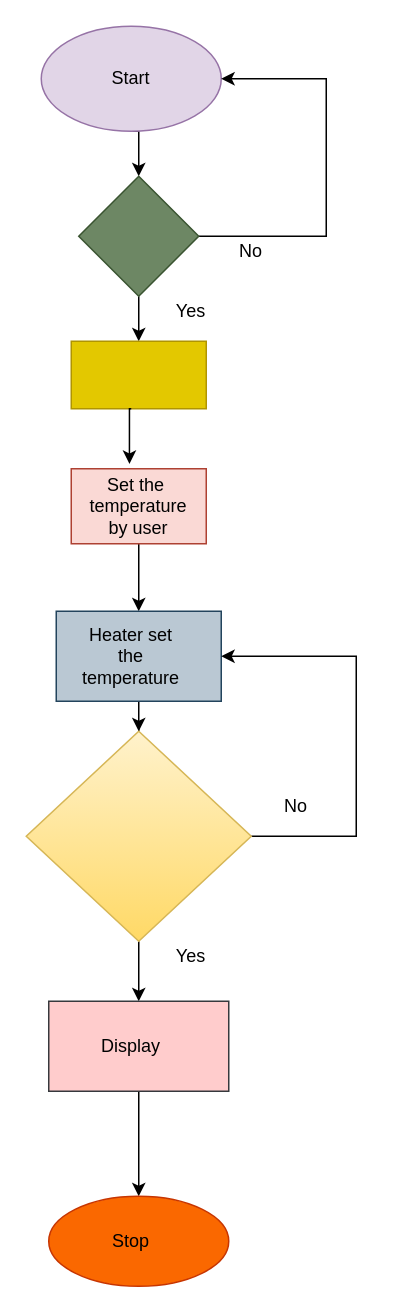
The diagram is 395 pixels wide and 1313 high, and some of its shapes have lost their labels. Each missing label, with the box of its shape:
Check temperature value given user: (25, 730, 251, 941)
Heater Start: (70, 340, 206, 409)
Person seated?: (77, 175, 199, 296)
